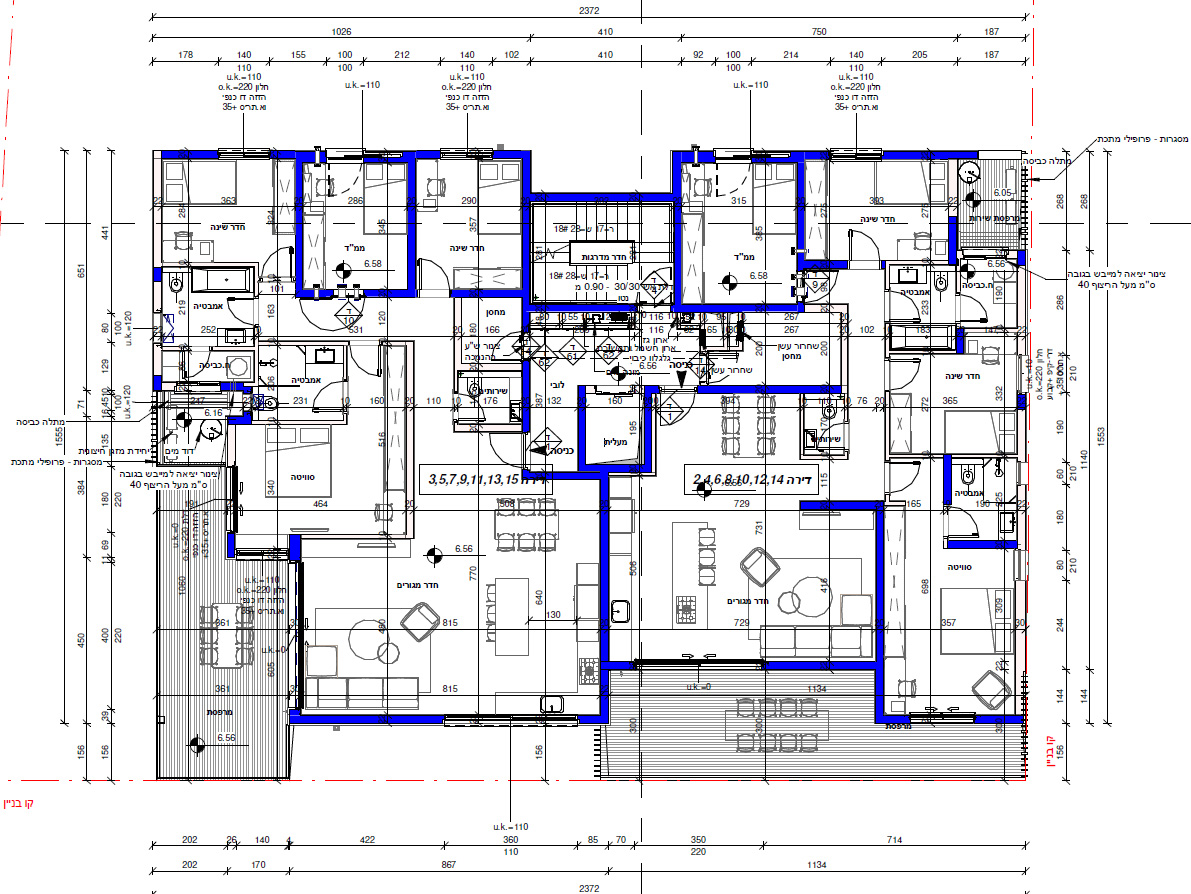window: (632, 657, 765, 669), (445, 715, 578, 727), (911, 711, 975, 722), (235, 547, 287, 560), (217, 149, 269, 161), (438, 147, 490, 159), (831, 150, 883, 162)
